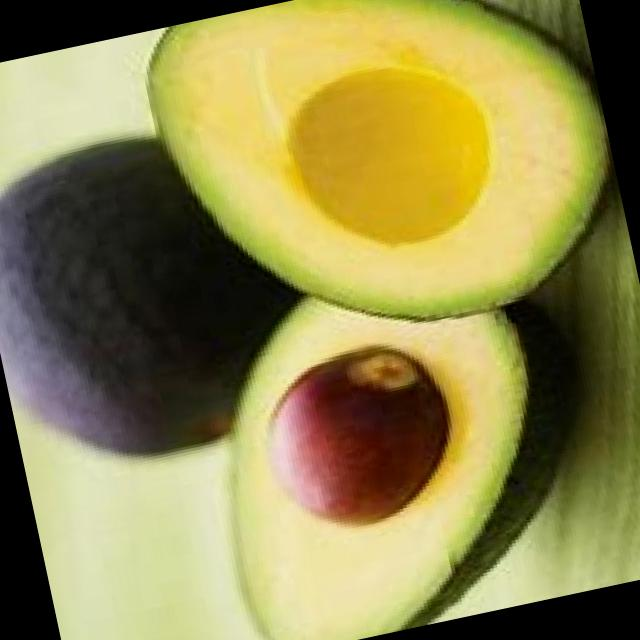avocado: (137, 0, 635, 368), (167, 245, 600, 640)
